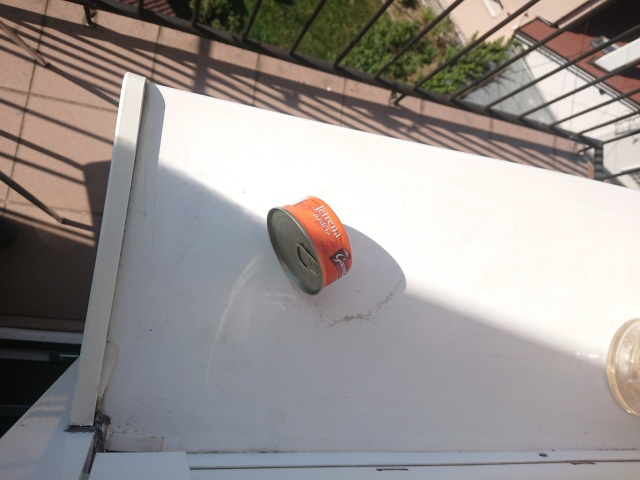Gavrilovic Pork Liver Pate 100g: (264, 193, 355, 298)
